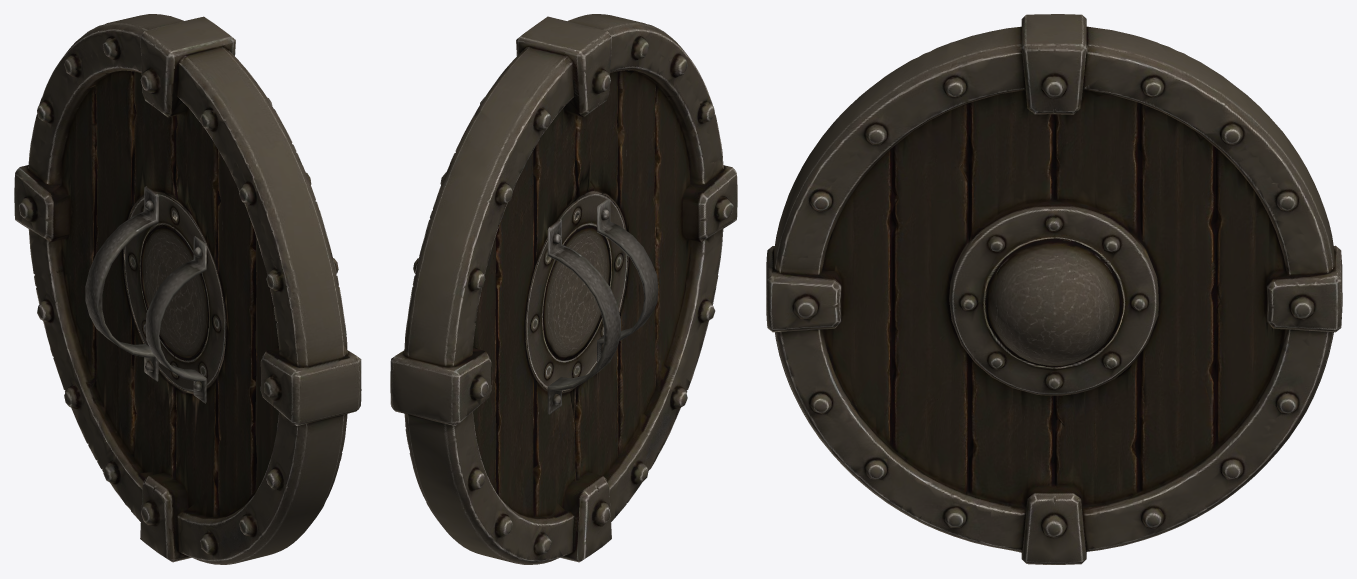
Rendered from Shield_round.fbx.
3 renders of one model, left to right at view 1: azimuth 30°, elevation 25°; view 2: azimuth 150°, elevation 25°; view 3: azimuth 270°, elevation 25°, orthographic.
Parts seen in each view (by area): view 1: shield_round; view 2: shield_round; view 3: shield_round.
Boxes of the visible parts, x1,y1,x2,y2 form: shield_round: [14, 14, 361, 564]; shield_round: [390, 14, 737, 564]; shield_round: [766, 14, 1342, 564].
Size of the model in its own units: 28.01 by 97.79 by 97.95.
2 materials, 2 textured.
